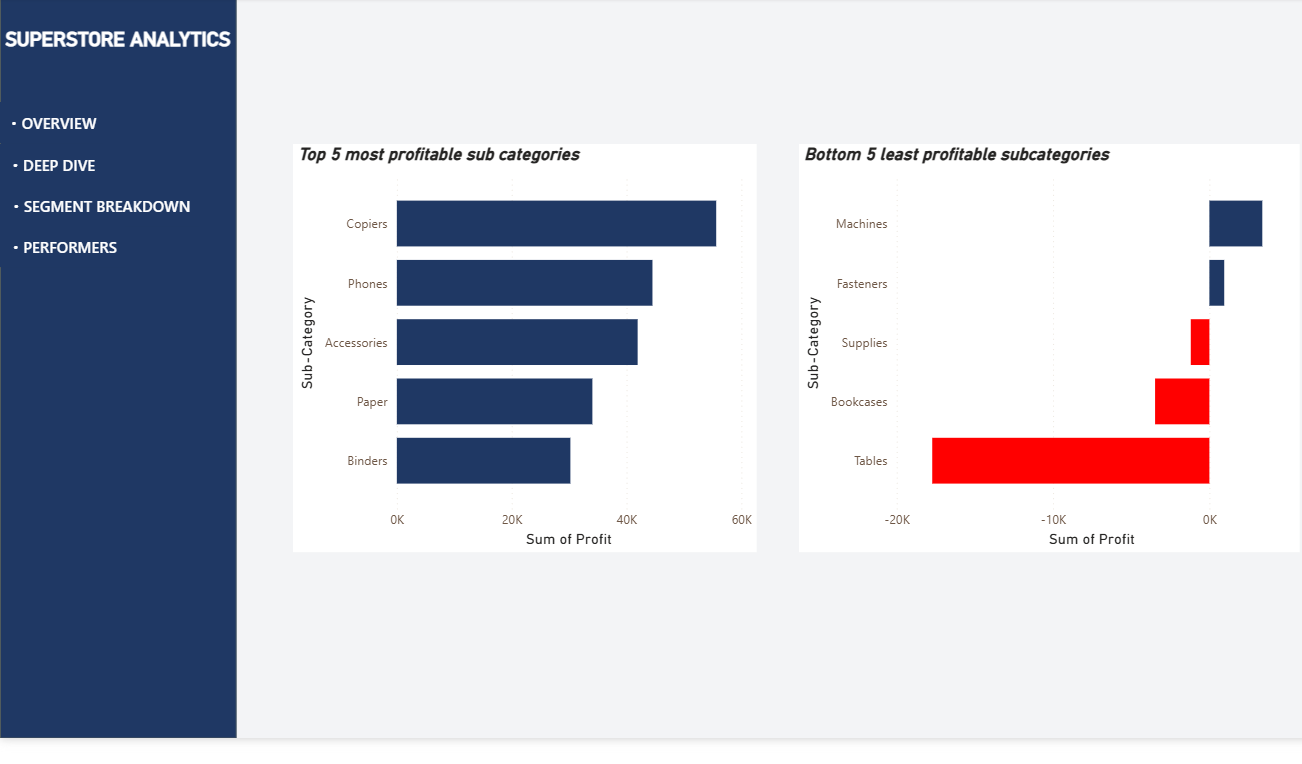

The dashboard page shown, as its layout file describes it:
{"tool":"powerbi","page":{"name":"Top and Bottom performers","canvas":[1280,720],"ordinal":3},"visuals":[{"type":"clusteredBarChart","title":"Top 5 most profitable sub categories","fields":{"Category":["SampleSuperstorecleaned.Sub-Category"],"Y":["Sum(SampleSuperstorecleaned.Profit)"]},"box":[285.3,142.1,451.1,397],"z":0},{"type":"clusteredBarChart","title":"Bottom 5 least profitable subcategories","fields":{"Category":["SampleSuperstorecleaned.Sub-Category"],"Y":["Sum(SampleSuperstorecleaned.Profit)"]},"box":[777,142.1,487.2,397],"z":1000},{"type":"shape","box":[0,0,230.3,720.3],"z":2000},{"type":"textbox","box":[0,23.6,242.1,56.7],"z":3000},{"type":"actionButton","box":[0,101.5,100.4,40.1],"z":4000},{"type":"actionButton","box":[0,141.7,100.4,40.1],"z":5000},{"type":"actionButton","box":[0,181.8,193.7,40.1],"z":6000},{"type":"actionButton","box":[0,222,121.6,40.1],"z":7000}]}

Visuals, with their boxes on the page's 1280x720 design canvas (x1, y1, x2, y2). These are canvas units, not pixel positions in the 1302x764 screenshot, which may show the page scaled, cropped or inside an application window:
"Top 5 most profitable sub categories" clusteredBarChart: [x1=285, y1=142, x2=736, y2=539]
"Bottom 5 least profitable subcategories" clusteredBarChart: [x1=777, y1=142, x2=1264, y2=539]
shape: [x1=0, y1=0, x2=230, y2=720]
textbox: [x1=0, y1=24, x2=242, y2=80]
actionButton: [x1=0, y1=102, x2=100, y2=142]
actionButton: [x1=0, y1=142, x2=100, y2=182]
actionButton: [x1=0, y1=182, x2=194, y2=222]
actionButton: [x1=0, y1=222, x2=122, y2=262]
